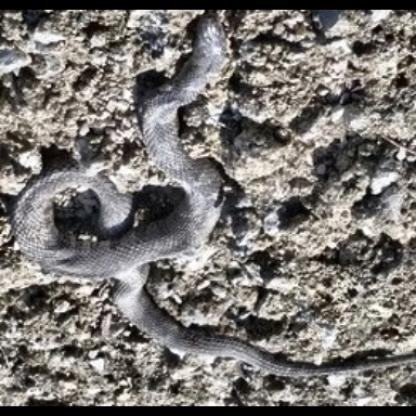Snake: (5, 17, 413, 390)
